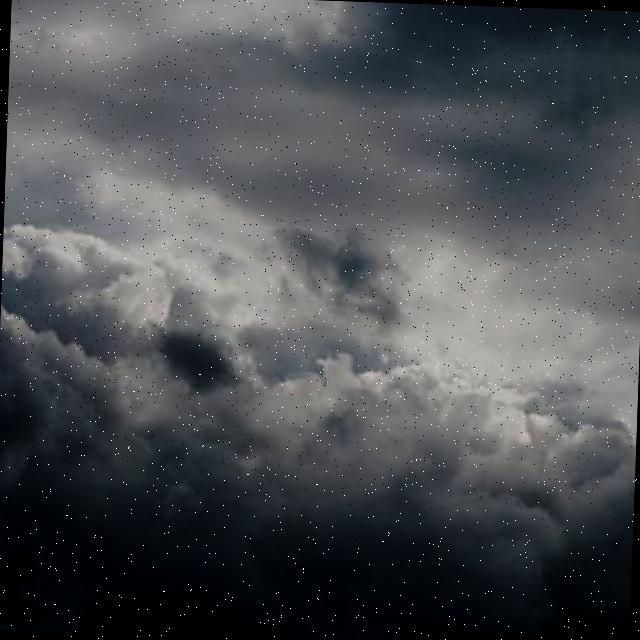Ns: (1, 89, 640, 640)
